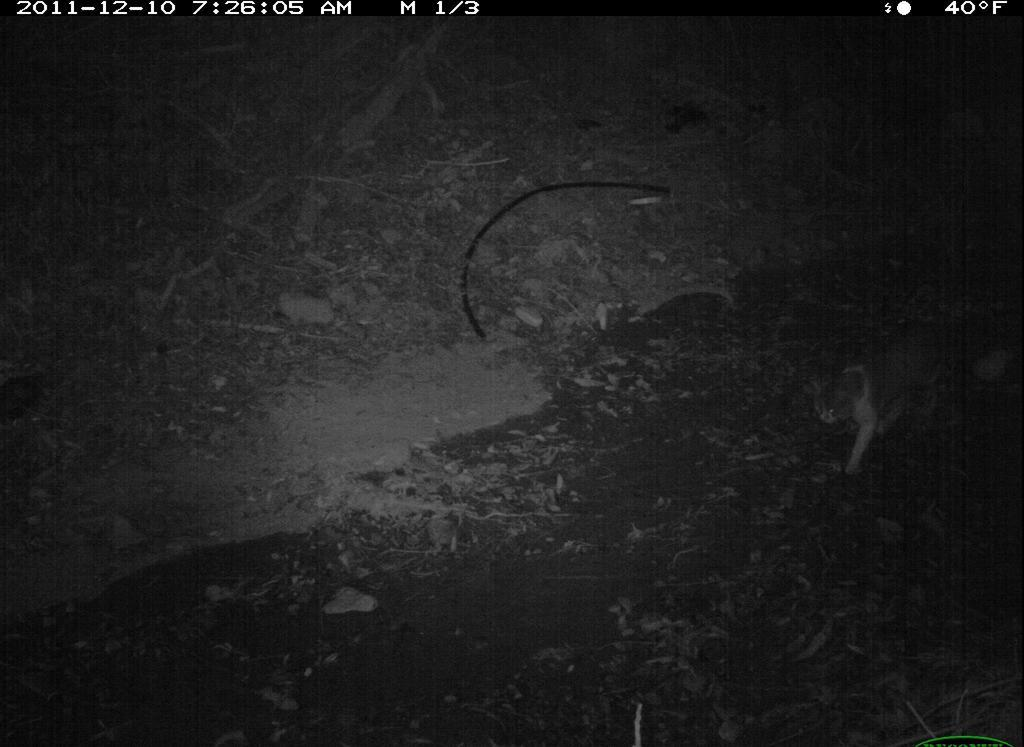cat: (798, 326, 973, 486)
